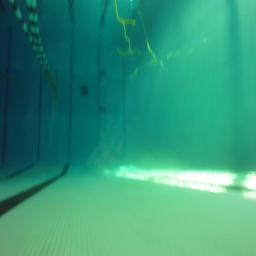Full: (96, 105, 108, 113), (80, 85, 88, 94)
